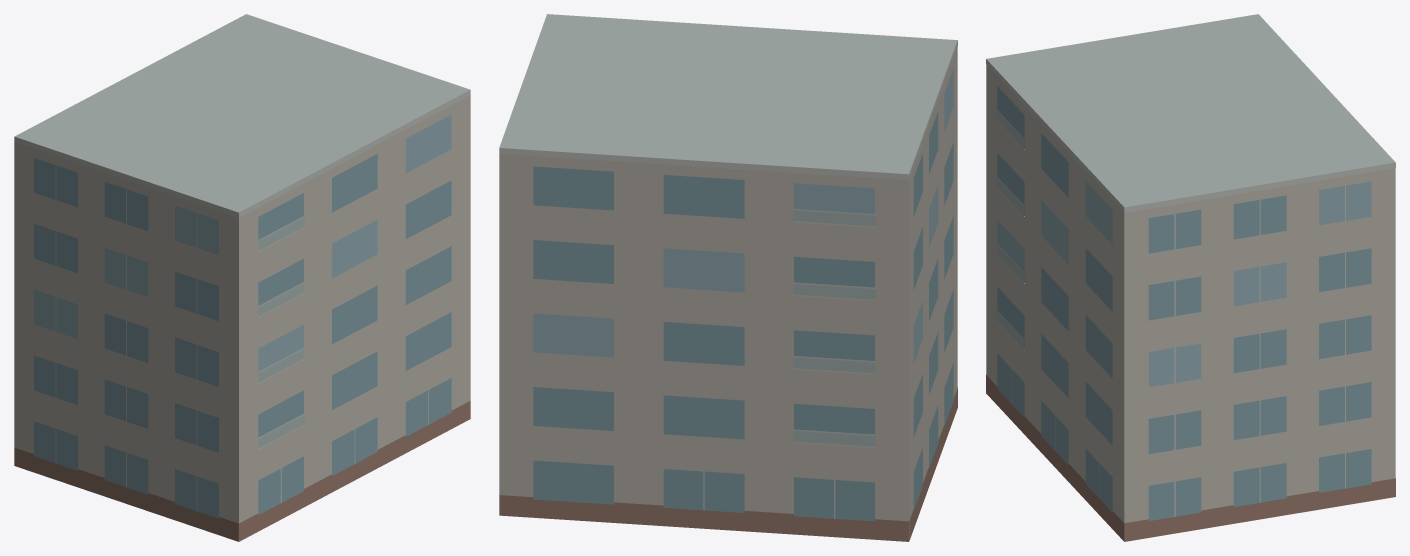
File: survey-upis-32646204.glb
3 views of the same model, side by side, from view 1: azimuth 30°, elevation 25°; view 2: azimuth 150°, elevation 25°; view 3: azimuth 270°, elevation 25° (orthographic). The views are drawn at different scales.
Parts seen in each view (by area): view 1: survey-upis-32646204.tmp; view 2: survey-upis-32646204.tmp; view 3: survey-upis-32646204.tmp.
Part boxes in pixels (bbox=[...]): survey-upis-32646204.tmp: bbox=[14, 14, 470, 541]; survey-upis-32646204.tmp: bbox=[499, 14, 957, 541]; survey-upis-32646204.tmp: bbox=[986, 14, 1395, 541].
Bounding box in the file's own units: 18.93 × 15.25 × 16.94.
